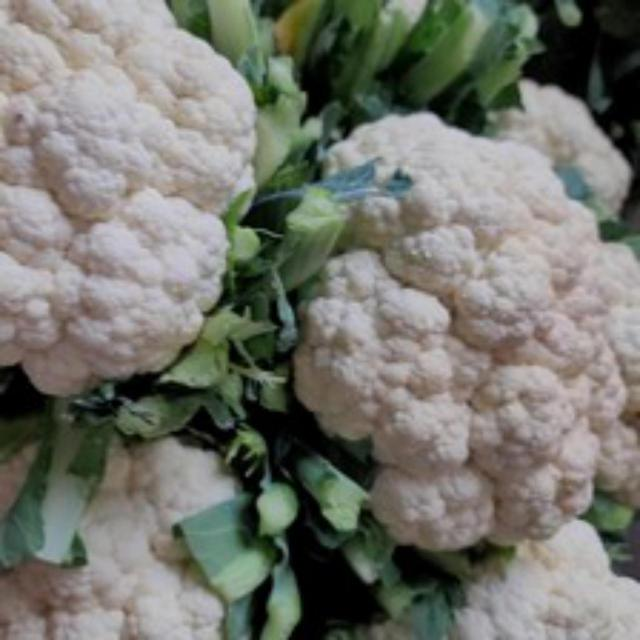cauliflower: (286, 106, 636, 556), (0, 1, 259, 399)
